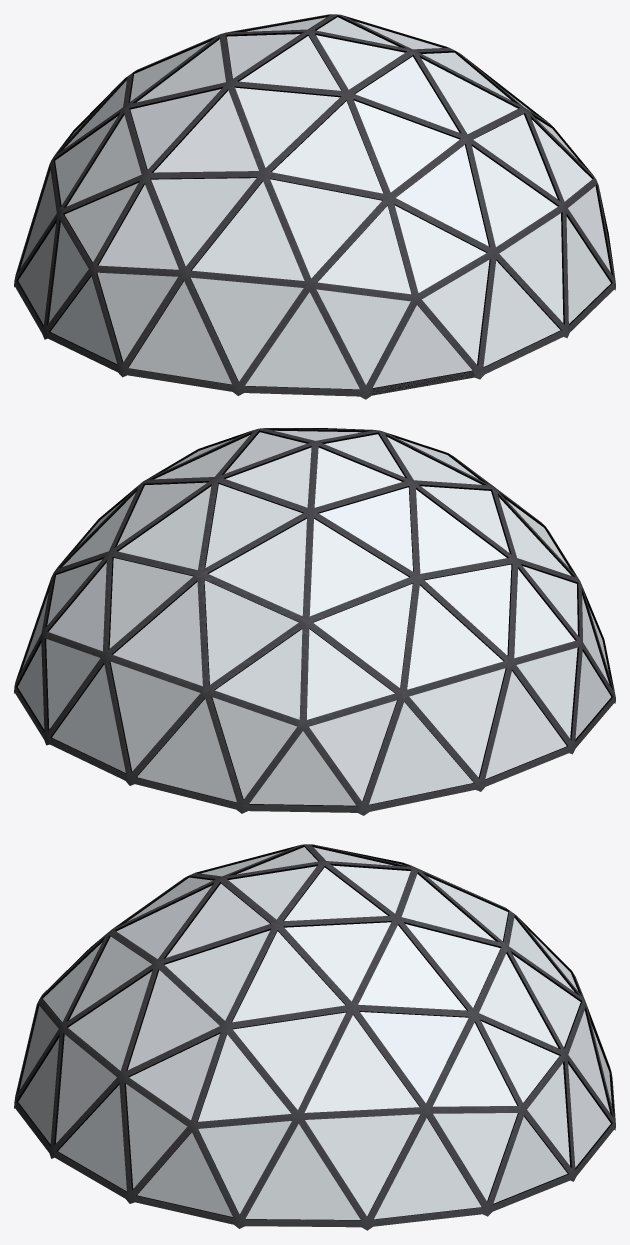
Rendered from FachadaV2.obj.
The picture shows the model from 3 angles, top to bottom: view 1: azimuth 30°, elevation 25°; view 2: azimuth 150°, elevation 25°; view 3: azimuth 270°, elevation 25°; orthographic projection.
Visible parts, largest first — view 1: Fachada:pPlatonic1; view 2: Fachada:pPlatonic1; view 3: Fachada:pPlatonic1.
Part boxes in pixels (x1=…): Fachada:pPlatonic1: x1=14, y1=14, x2=615, y2=399; Fachada:pPlatonic1: x1=14, y1=428, x2=615, y2=815; Fachada:pPlatonic1: x1=14, y1=844, x2=615, y2=1230.
Bounding box in the file's own units: 22.49 × 10.32 × 22.51.
Materials: 3 (2 with a texture image).
